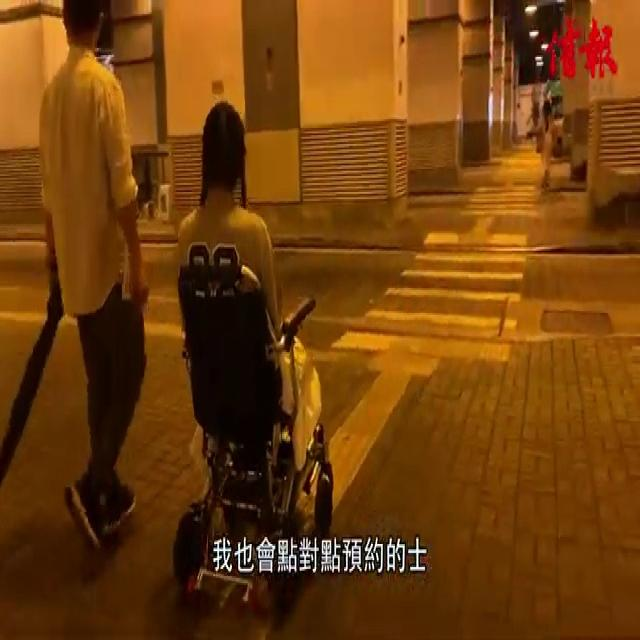wheelchairs: (170, 267, 340, 606)
